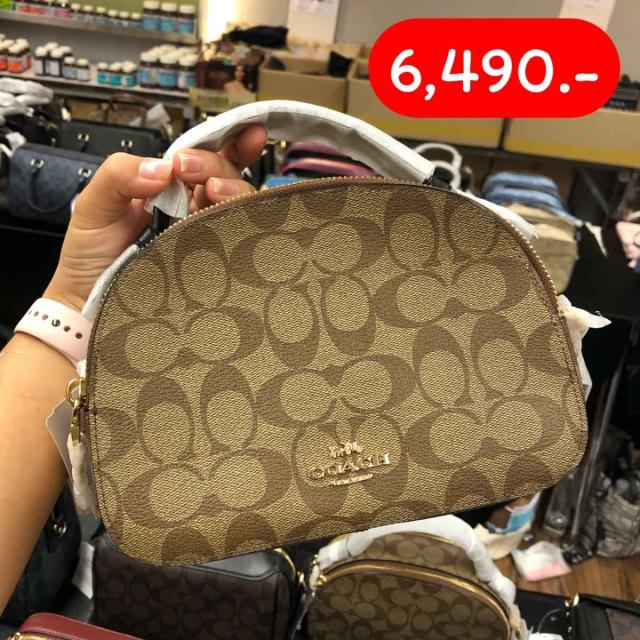Handbag: (33, 173, 584, 586)
